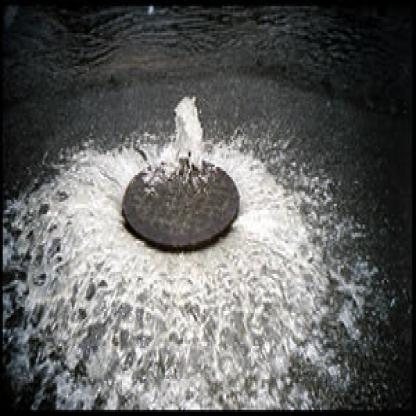drainage overflow-repair-: (7, 110, 348, 389)
